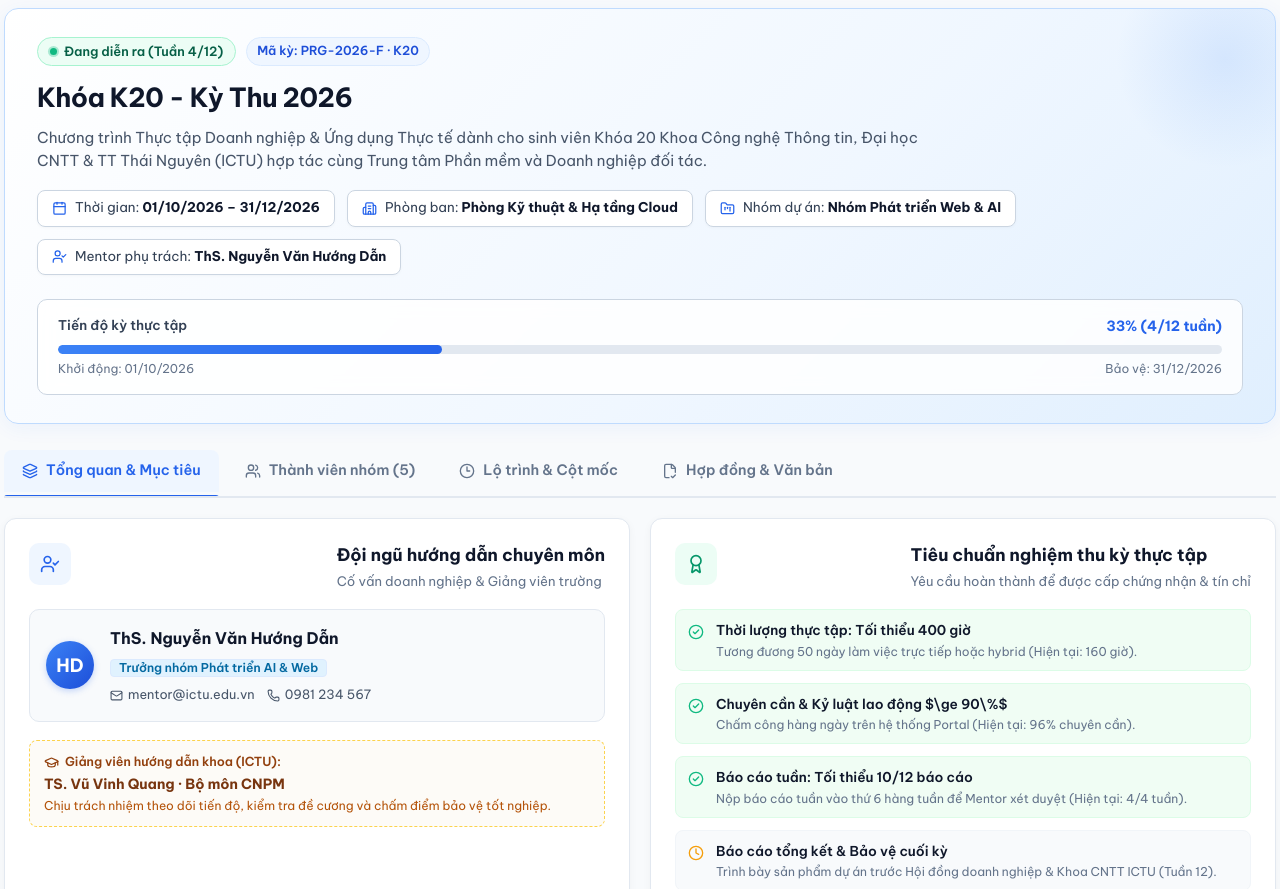
Test: InternProgramPage Component Test Suite (Tab Kỳ thực tập của TTS) › 4. Chuyển sang tab "Thành viên nhóm": hiển thị bảng danh sách các sinh viên cùng đợt
This screenshot has width=1280, height=889.
Click the button "Thành viên nhóm (5)" at (330, 471), box 227,450 -> 433,492
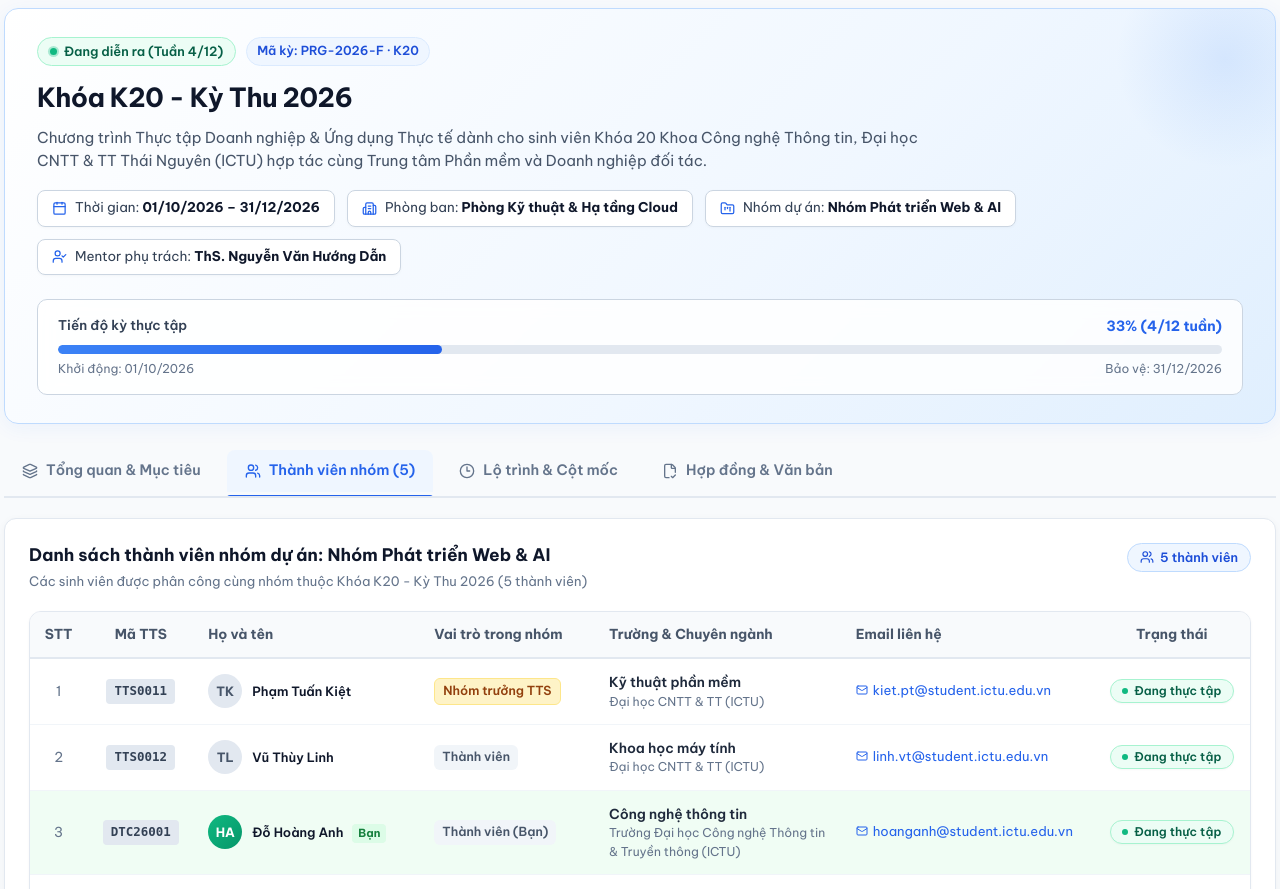
Expected: the heading "Danh sách thành viên nhóm dự án: Nhóm Phát triển Web & AI" is shown, 29,543 -> 587,569
Expected: the text "Phạm Tuấn Kiệt" is shown, 252,683 -> 351,699
Expected: the text "Vũ Thùy Linh" is shown, 252,749 -> 334,765
